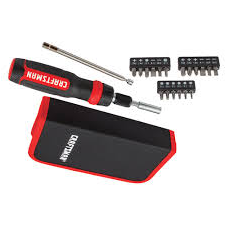screwdriver: (8, 54, 168, 118)
